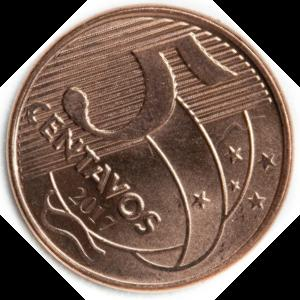5 cent: (4, 3, 293, 293)
